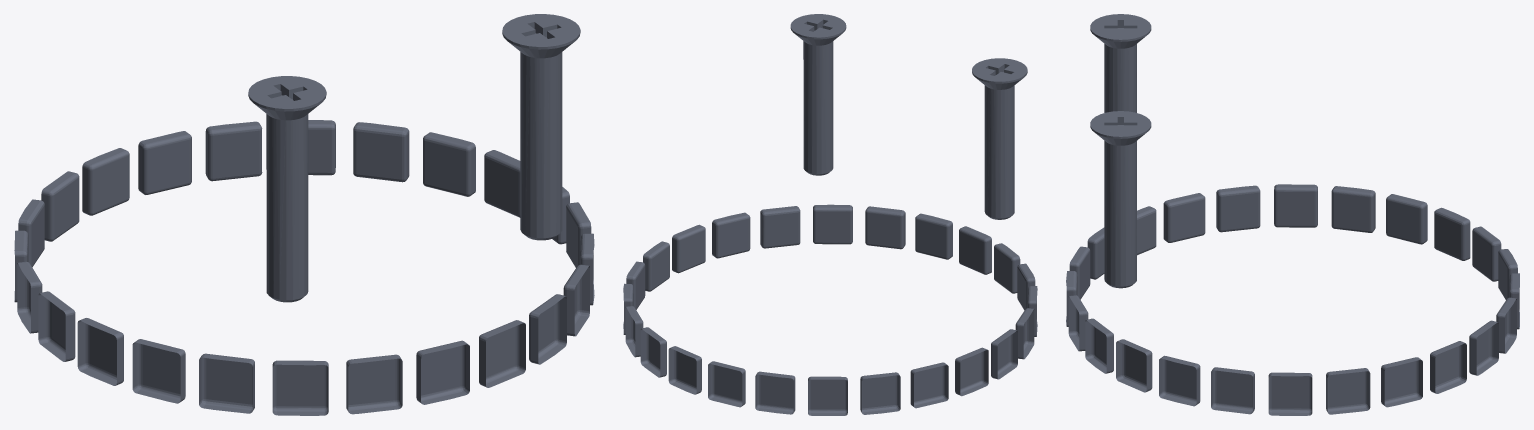
Rendered from solo_upper_leg_4.obj.
3 views of the same model, side by side, from view 1: azimuth 30°, elevation 25°; view 2: azimuth 150°, elevation 25°; view 3: azimuth 270°, elevation 25° (orthographic). The views are drawn at different scales.
Size of the model in its own units: 0.0415 by 0.0246 by 0.0414.
